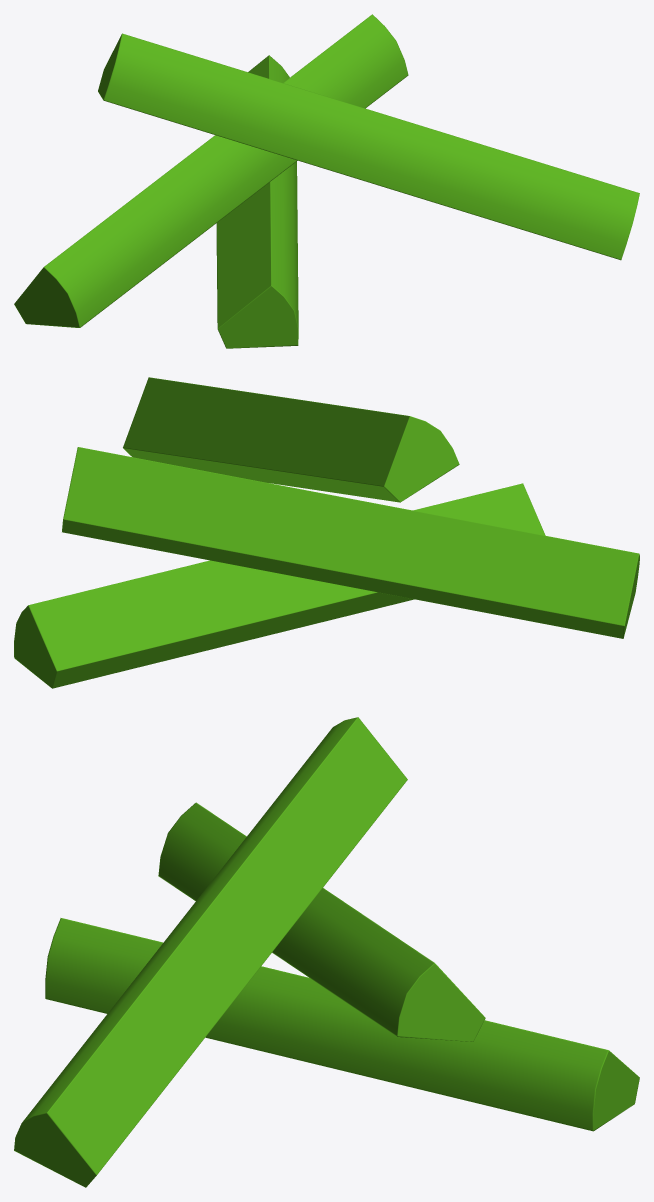
The model's file is firelog.fbx.
3 views of the same model, one above another, from view 1: azimuth 30°, elevation 25°; view 2: azimuth 150°, elevation 25°; view 3: azimuth 270°, elevation 25° (orthographic). The views are drawn at different scales.
Parts seen in each view (by area): view 1: firelogs; view 2: firelogs; view 3: firelogs.
Boxes of the visible parts, box(x1,y1,x2,y2) form: firelogs: box(14, 14, 639, 348); firelogs: box(14, 377, 639, 688); firelogs: box(14, 717, 639, 1187).
Bounding box in the file's own units: 76.64 × 30.52 × 66.1.
